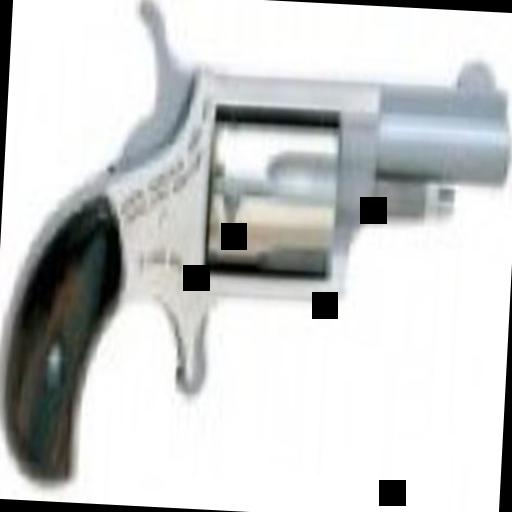Handgun: (3, 0, 512, 502)
